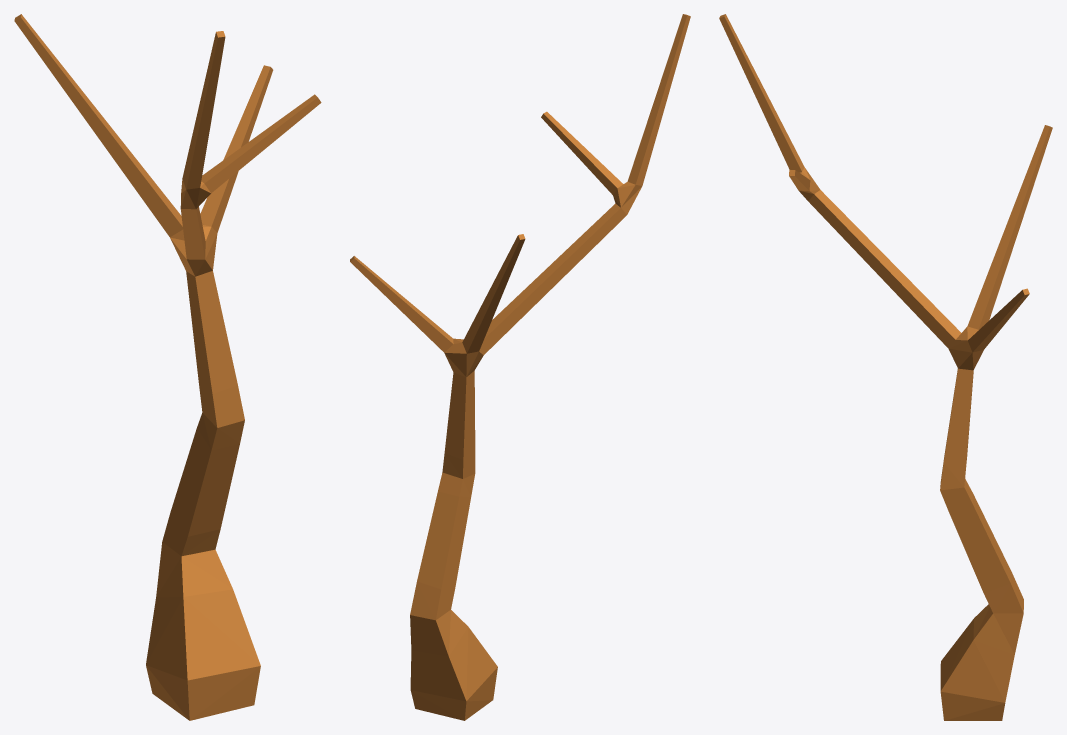
The model's file is tree8.fbx.
3 renders of one model, left to right at view 1: azimuth 30°, elevation 25°; view 2: azimuth 150°, elevation 25°; view 3: azimuth 270°, elevation 25°, orthographic. The views are drawn at different scales.
Visible parts, largest first — view 1: Cube; view 2: Cube; view 3: Cube.
Boxes of the visible parts, <box> form: Cube: <box>14,14,321,720</box>; Cube: <box>350,14,690,720</box>; Cube: <box>719,14,1052,720</box>.
Bounding box in the file's own units: 340 × 1063 × 503.
